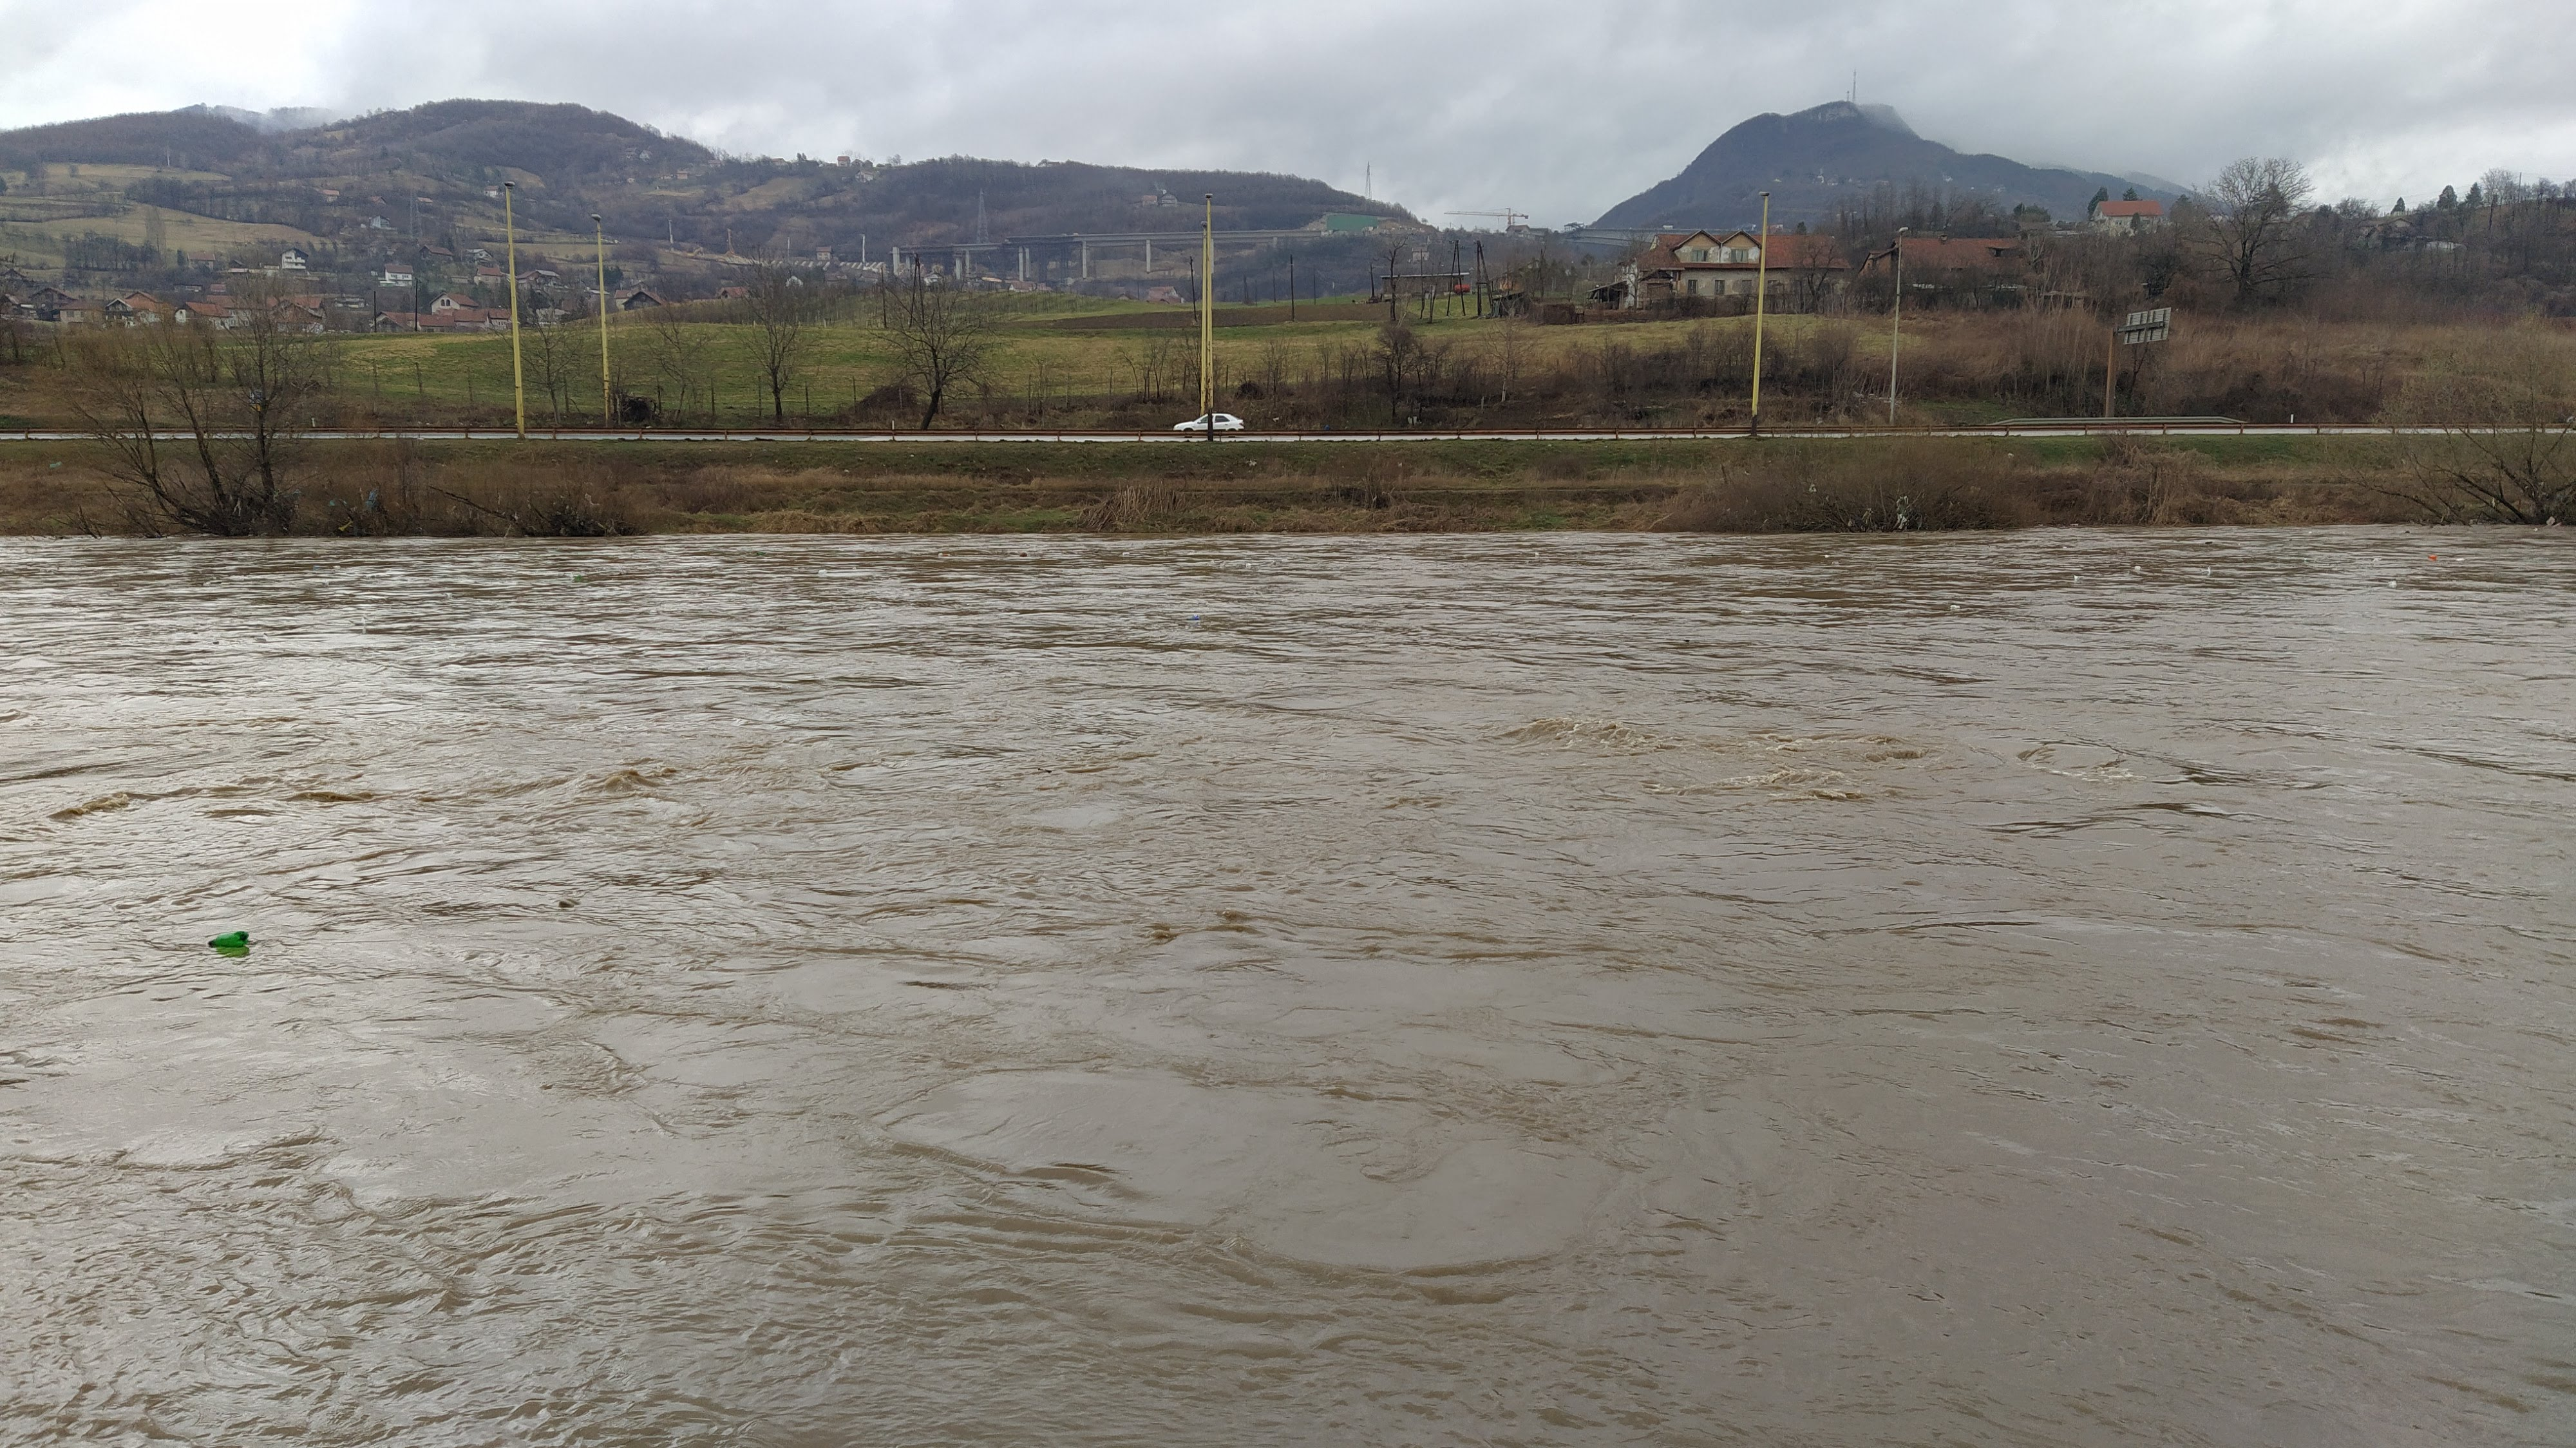Plastic Bottle: (209, 931, 249, 949), (1185, 614, 1200, 620), (313, 565, 320, 570), (2429, 554, 2436, 558), (757, 551, 763, 554), (575, 575, 580, 579)
